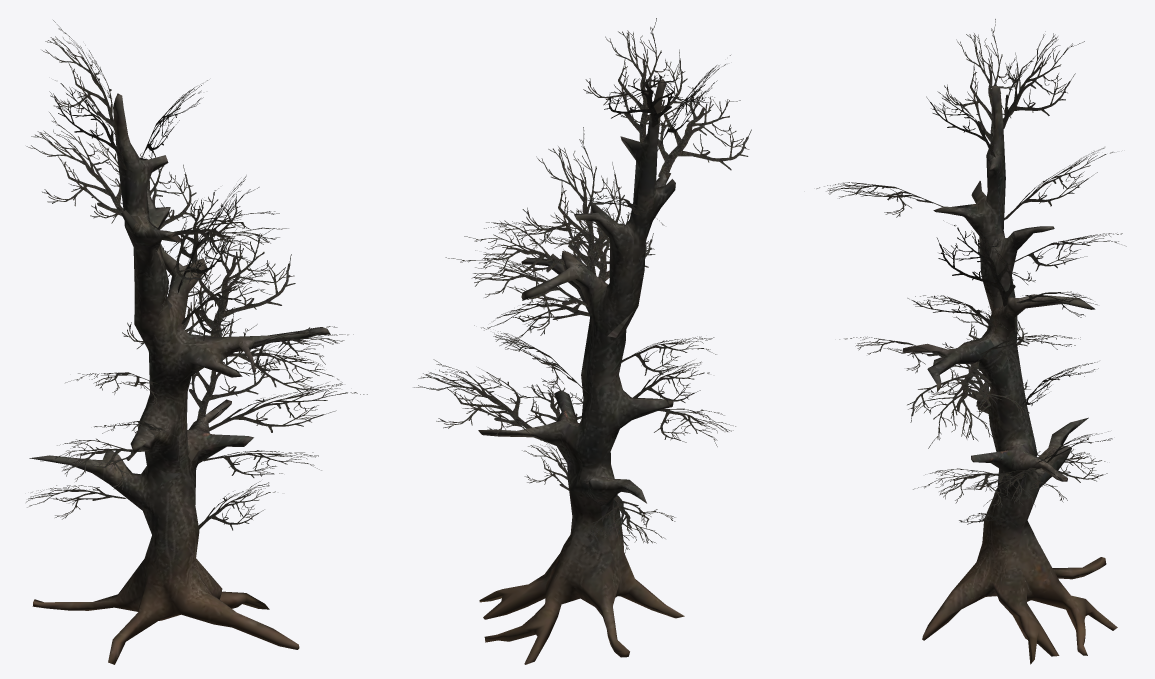
The picture shows the model from 3 angles, left to right: view 1: azimuth 30°, elevation 25°; view 2: azimuth 150°, elevation 25°; view 3: azimuth 270°, elevation 25°; orthographic projection. The views are drawn at different scales.
Parts seen in each view (by area): view 1: tree1; view 2: tree1; view 3: tree1.
Part boxes in pixels (bbox=[...]): tree1: bbox=[26, 20, 367, 664]; tree1: bbox=[413, 18, 751, 664]; tree1: bbox=[816, 19, 1126, 664].
Bounding box in the file's own units: 5.2 × 9.27 × 5.23.
Materials: 1 (1 with a texture image).
